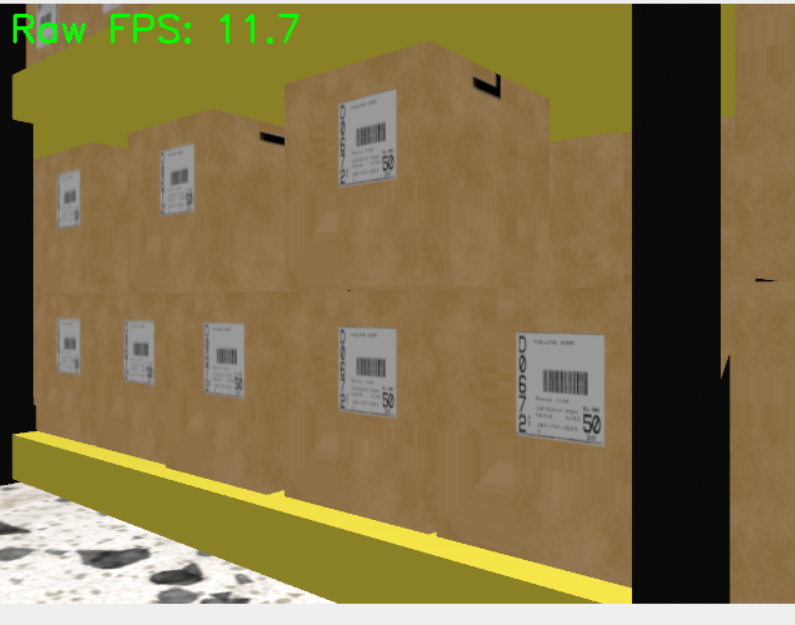barcode: (515, 330, 605, 446), (337, 88, 397, 186), (338, 326, 397, 418), (203, 321, 246, 400), (159, 144, 195, 216), (121, 319, 154, 385), (56, 317, 82, 377), (56, 169, 81, 230)
